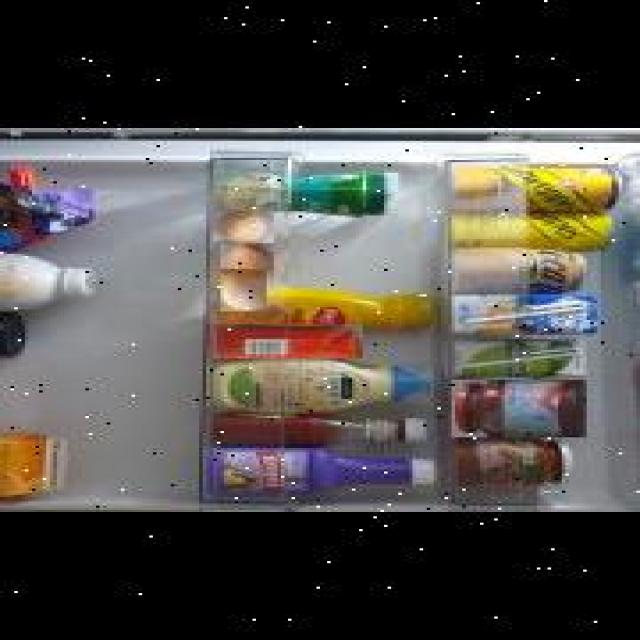egg: (206, 212, 270, 246), (217, 269, 263, 311), (217, 244, 270, 278)
marmelade: (448, 380, 583, 437)
mayonaise: (205, 361, 439, 412)
tomato_sauce: (201, 324, 357, 358)
